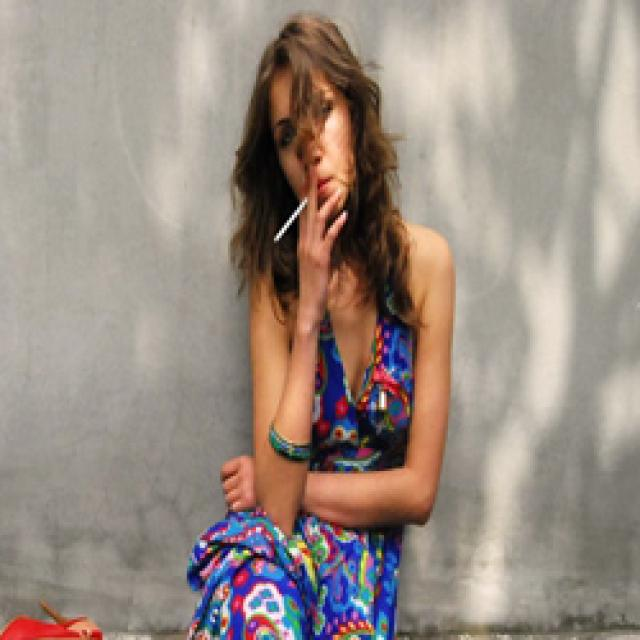Smooking: (262, 195, 315, 245)
